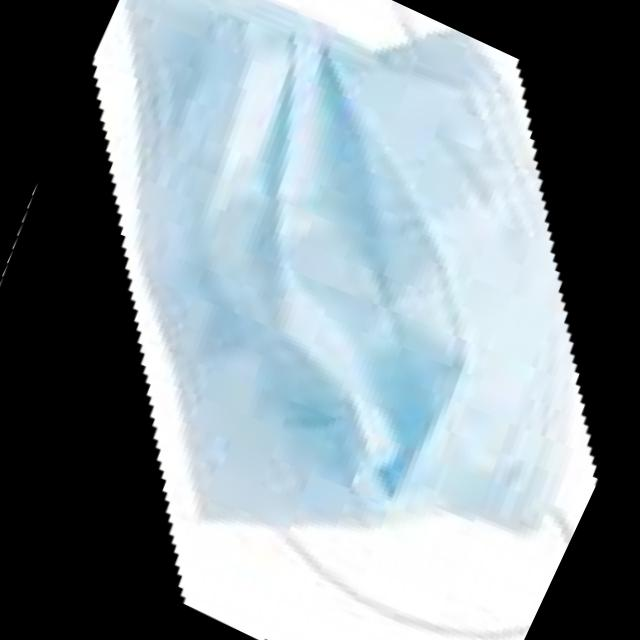others: (93, 0, 597, 640)
